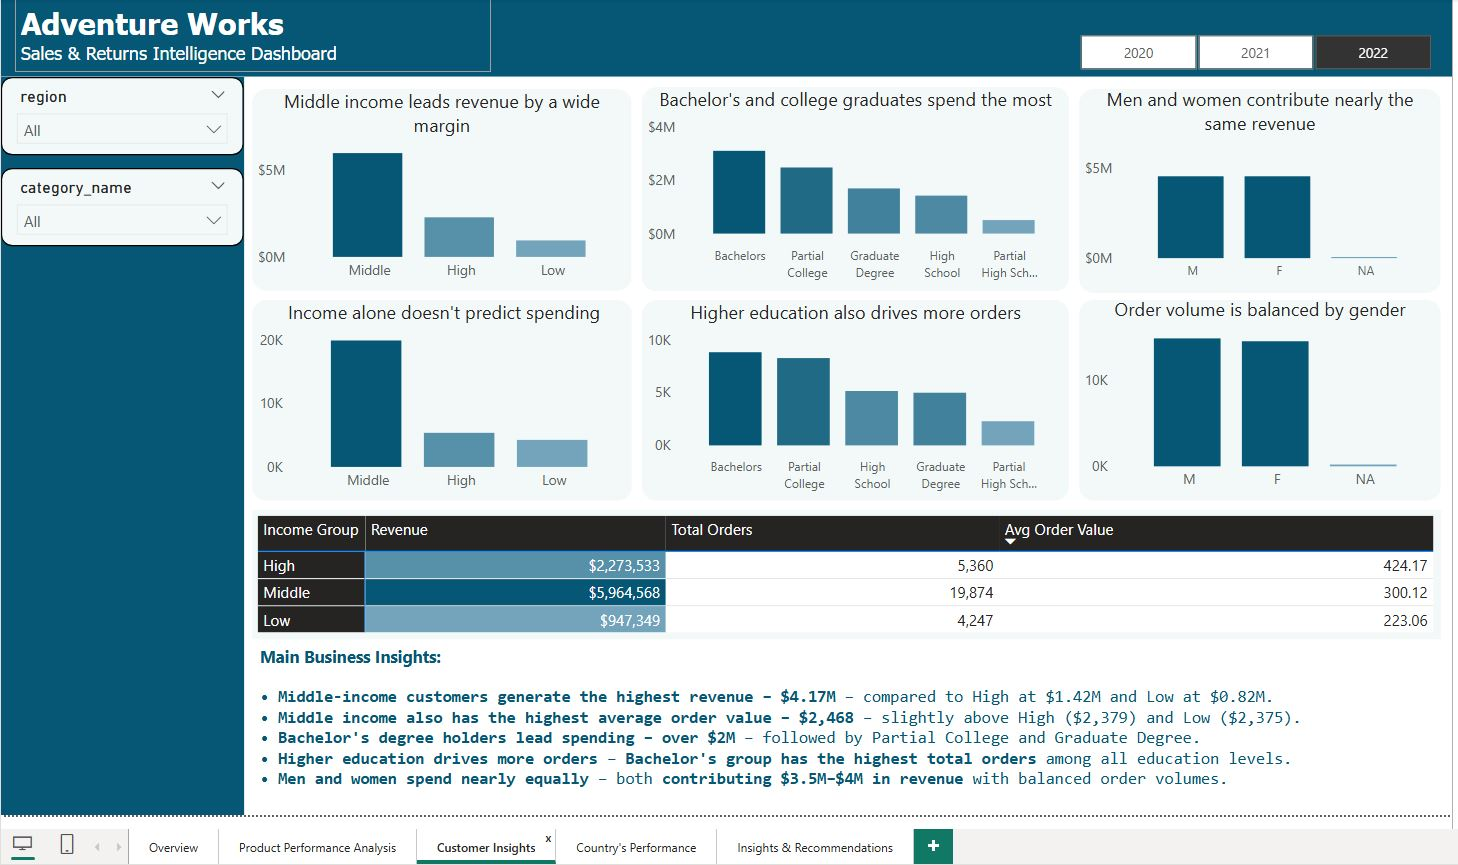

Layout of this report page (visuals, bound fields, positions):
{"tool":"powerbi","page":{"name":"Customer Insights","canvas":[1280,720],"ordinal":2},"visuals":[{"type":"shape","box":[950.5,79.4,319.3,180],"z":0},{"type":"shape","box":[221.5,79.4,335,178.1],"z":1000},{"type":"shape","box":[565.7,77.5,376.8,180.4],"z":2000},{"type":"shape","box":[221.8,265.3,335.4,177.2],"z":3000},{"type":"shape","box":[565.7,265.3,376.8,177.2],"z":4000},{"type":"shape","box":[0,0,1280,68.5],"z":5000},{"type":"shape","box":[0,68.5,214.7,651.1],"z":6000},{"type":"textbox","box":[12.1,0,420.3,64.5],"z":7000},{"type":"slicer","fields":{"Values":["dim_product_categories.category_name"]},"box":[0,148.9,214.4,68.9],"z":8000},{"type":"slicer","fields":{"Values":["dim_territory.region"]},"box":[0,68.9,214.4,68.9],"z":9000},{"type":"slicer","fields":{"Values":["calendar.Year"]},"box":[931.3,30.2,348.7,34.3],"z":10000},{"type":"clusteredColumnChart","title":"Middle income leads revenue by a wide margin","fields":{"Category":["dim_customers.Income Group"],"Y":["#measures.Revenue"]},"box":[221.5,79.4,335,178.1],"z":11000},{"type":"clusteredColumnChart","title":"Bachelor''s and college graduates spend the most","fields":{"Category":["dim_customers.educationlevel"],"Y":["#measures.Revenue"]},"box":[565.7,77.5,376.8,178.3],"z":12000},{"type":"pivotTable","fields":{"Rows":["dim_customers.Income Group"],"Values":["#measures.Revenue","#measures.Total Orders","#measures.Avg Order Value"]},"box":[221.8,451.1,1048.6,113.6],"z":13000},{"type":"textbox","box":[222.9,564.6,1047.6,153.9],"z":15000},{"type":"clusteredColumnChart","title":"Men and women contribute nearly the same revenue","fields":{"Category":["dim_customers.gender"],"Y":["#measures.Revenue"]},"box":[950.5,77.5,319.3,180],"z":16000},{"type":"shape","box":[951,265.3,319.5,177.2],"z":16003},{"type":"clusteredColumnChart","title":"Income alone doesn''t predict spending","fields":{"Category":["dim_customers.Income Group"],"Y":["#measures.Total Orders"]},"box":[222.9,265.3,335.4,177.2],"z":16004},{"type":"clusteredColumnChart","title":"Order volume is balanced by gender","fields":{"Category":["dim_customers.gender"],"Y":["#measures.Total Orders"]},"box":[951,263.2,319.5,179.4],"z":16005},{"type":"clusteredColumnChart","title":"Higher education also drives more orders","fields":{"Category":["dim_customers.educationlevel"],"Y":["#measures.Total Orders"]},"box":[565.7,265.3,376.8,177.2],"z":16006}]}

Visuals, with their boxes on the page's 1280x720 design canvas (x1, y1, x2, y2). These are canvas units, not pixel positions in the 1458x865 screenshot, which may show the page scaled, cropped or inside an application window:
shape: 950 79 1270 259
shape: 222 79 556 258
shape: 566 78 942 258
shape: 222 265 557 442
shape: 566 265 942 442
shape: 0 0 1280 68
shape: 0 68 215 720
textbox: 12 0 432 64
slicer - dim_product_categories.category_name: 0 149 214 218
slicer - dim_territory.region: 0 69 214 138
slicer - calendar.Year: 931 30 1280 64
"Middle income leads revenue by a wide margin" clusteredColumnChart: 222 79 556 258
"Bachelor''s and college graduates spend the most" clusteredColumnChart: 566 78 942 256
pivotTable - dim_customers.Income Group x #measures.Revenue: 222 451 1270 565
textbox: 223 565 1270 718
"Men and women contribute nearly the same revenue" clusteredColumnChart: 950 78 1270 258
shape: 951 265 1270 442
"Income alone doesn''t predict spending" clusteredColumnChart: 223 265 558 442
"Order volume is balanced by gender" clusteredColumnChart: 951 263 1270 443
"Higher education also drives more orders" clusteredColumnChart: 566 265 942 442
